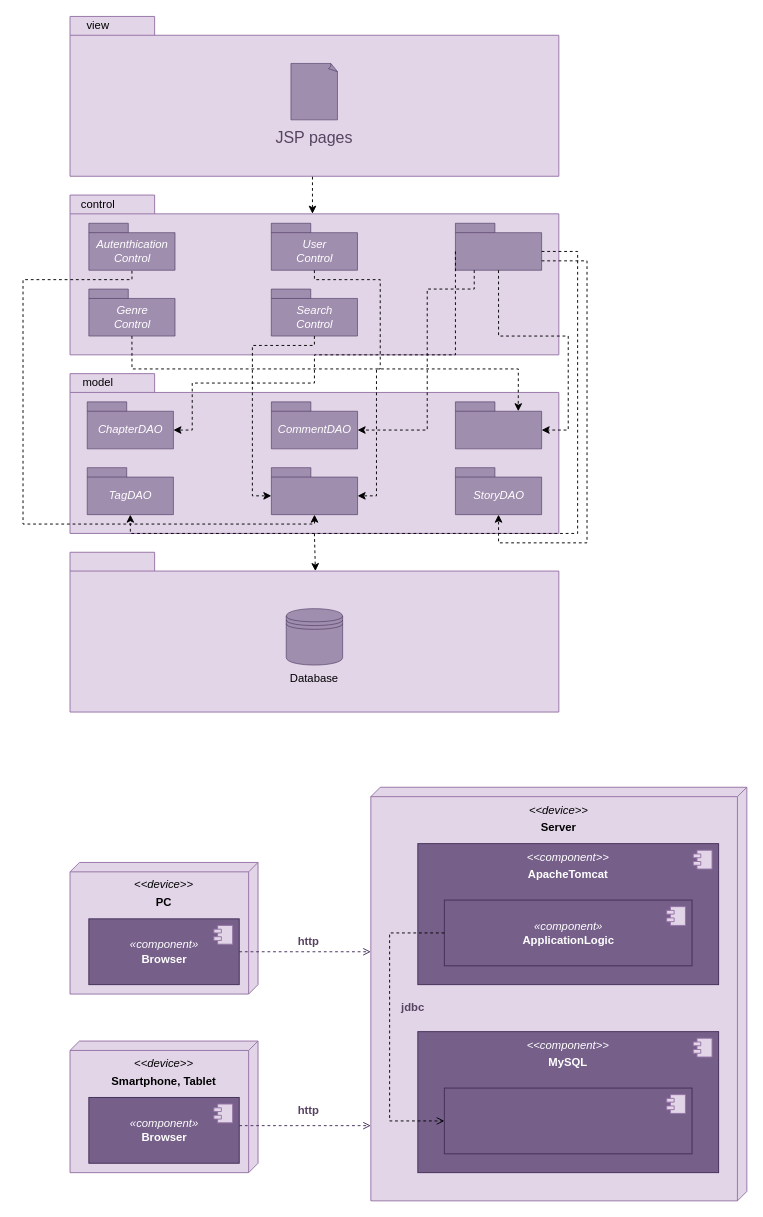
Image size: 763x1217. Some labels were removed from this diagram. The shapes that lost their labels are listed below. From the top down, each one's centre as x and y in pixels, then its label:
At (498,246): "Story Control".
At (498,425): "GenreDAO".
At (314,491): "UserDAO".
At (567,1120): "«component» Database".
